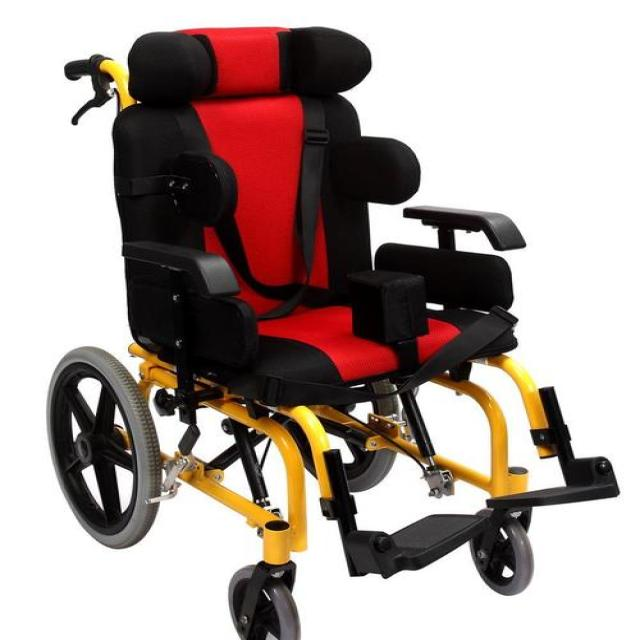wheelchairs: (25, 20, 640, 640)
